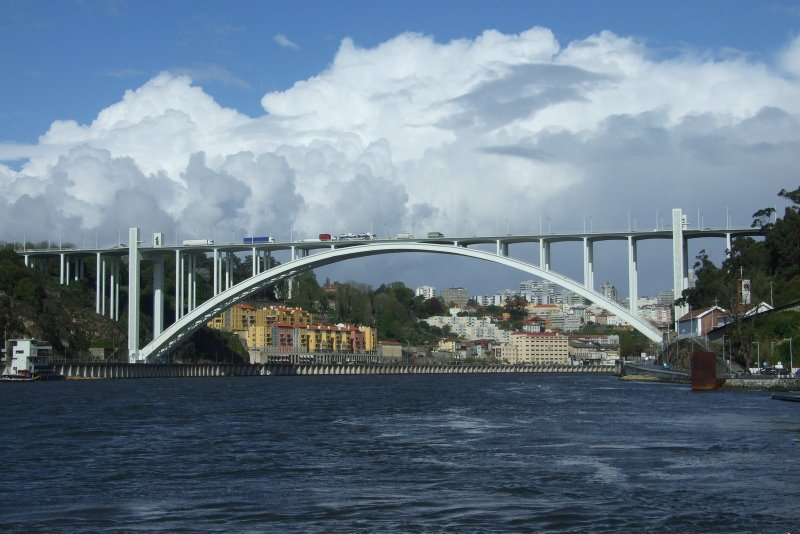arrabida: (14, 208, 773, 365)
